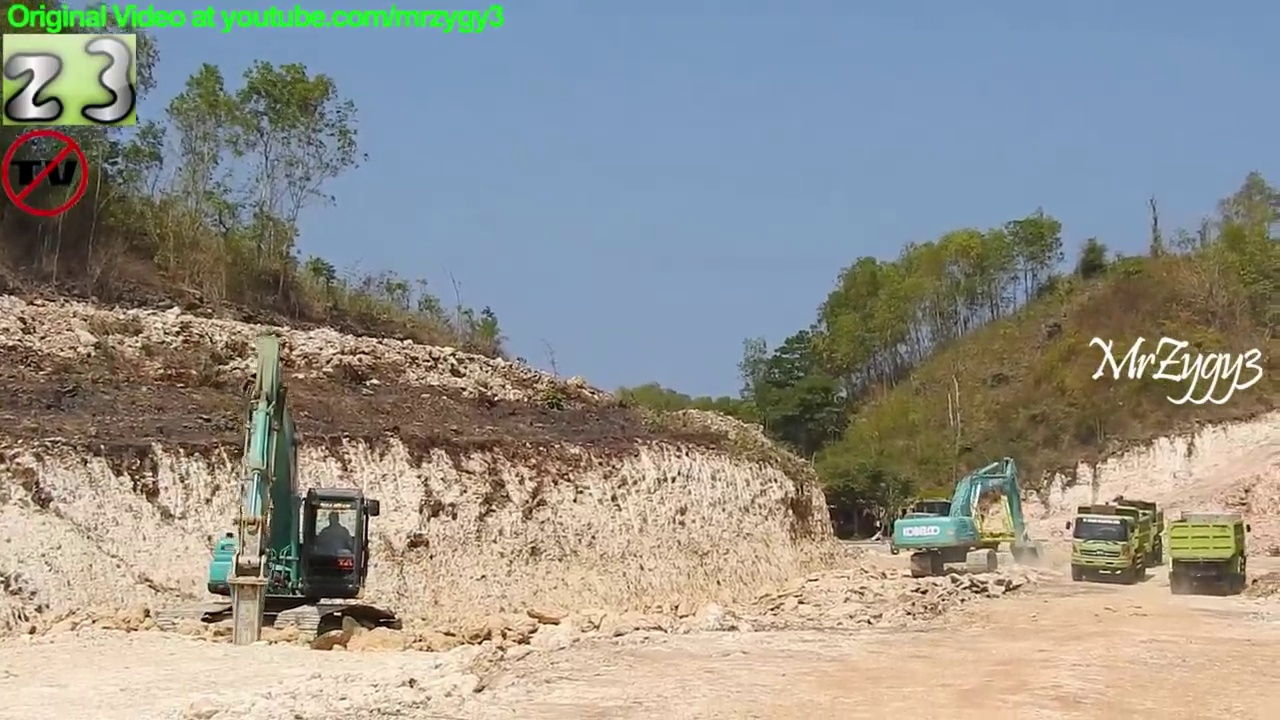excavator: (885, 455, 1050, 585)
excavator breaker: (155, 331, 407, 651)
truck: (1165, 510, 1254, 598), (1077, 495, 1165, 576), (1061, 503, 1147, 585)
